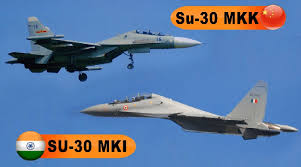maybay_muctieu: (79, 79, 300, 149), (11, 18, 207, 76)
